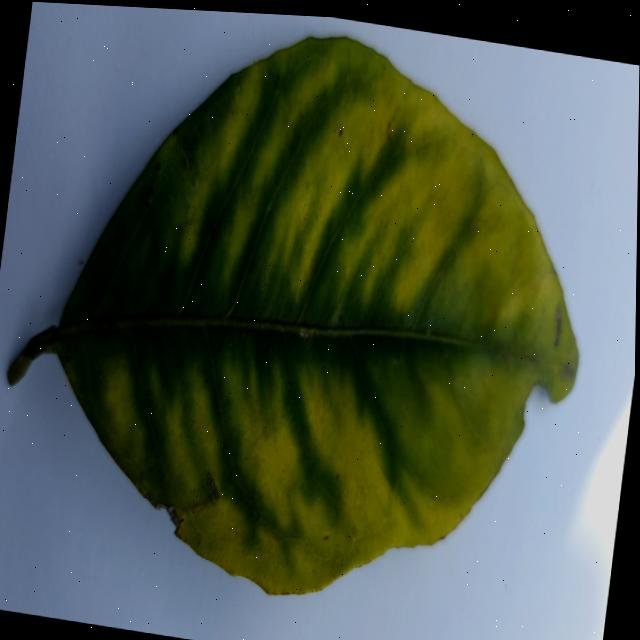greening: (7, 38, 577, 593)
